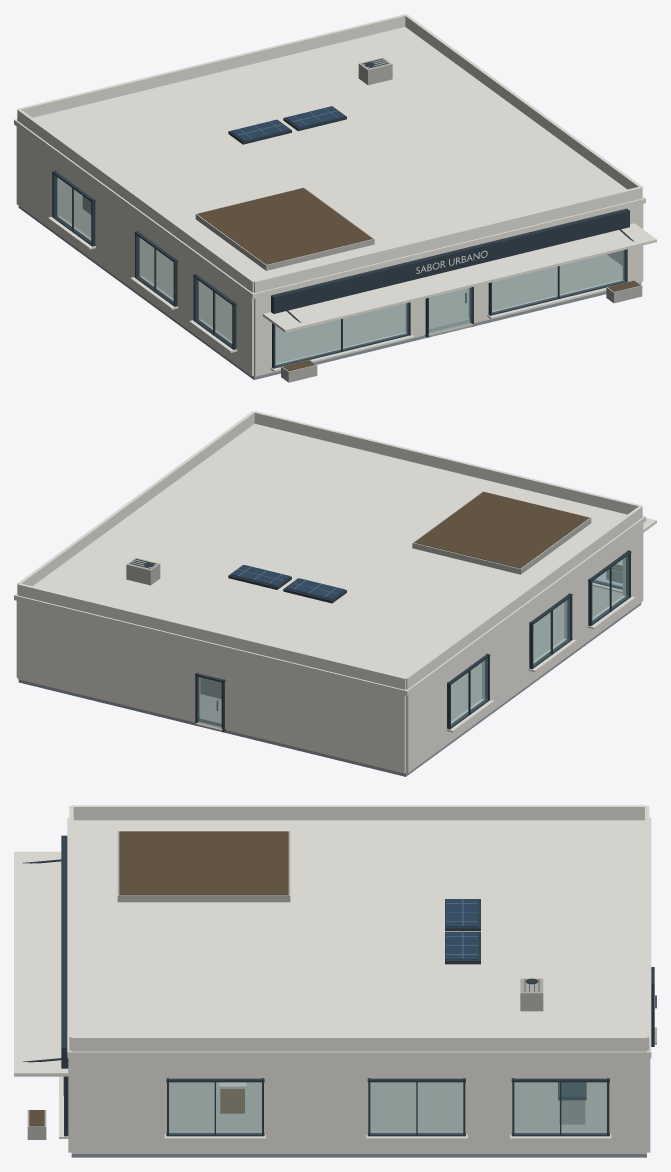
File: Shop_8.fbx
3 renders of one model, top to bottom at view 1: azimuth 30°, elevation 25°; view 2: azimuth 150°, elevation 25°; view 3: azimuth 270°, elevation 25°, orthographic. The views are drawn at different scales.
Parts seen in each view (by area): view 1: Shop_8; view 2: Shop_8; view 3: Shop_8.
Part boxes in pixels (x1=…): Shop_8: x1=14, y1=14, x2=656, y2=382; Shop_8: x1=14, y1=411, x2=656, y2=776; Shop_8: x1=14, y1=805, x2=656, y2=1157.
Size of the model in its own units: 19.87 by 4.87 by 22.35.
